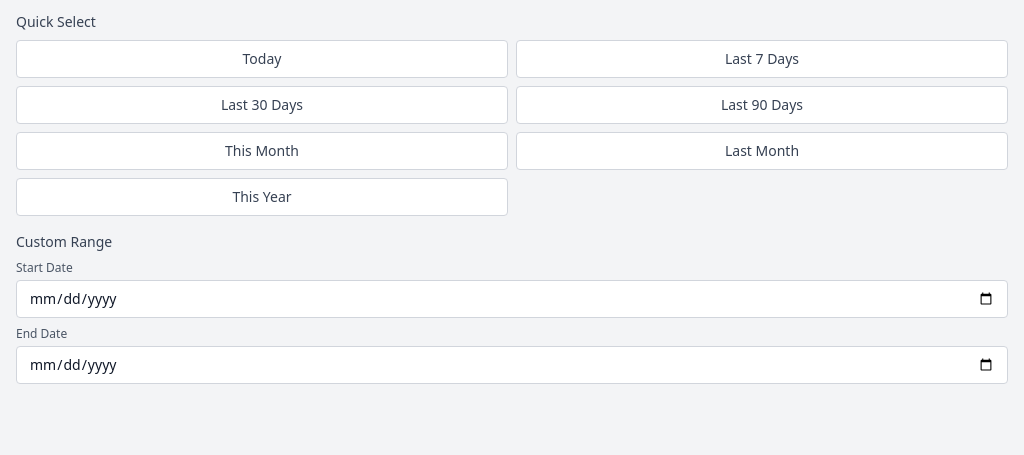
Test case: DateRangeFilter › Preset Button Interactions › should show clear button after preset is selected
The image size is (1024, 455).
Click the button "Today" at (262,59), box [16, 40, 508, 78]
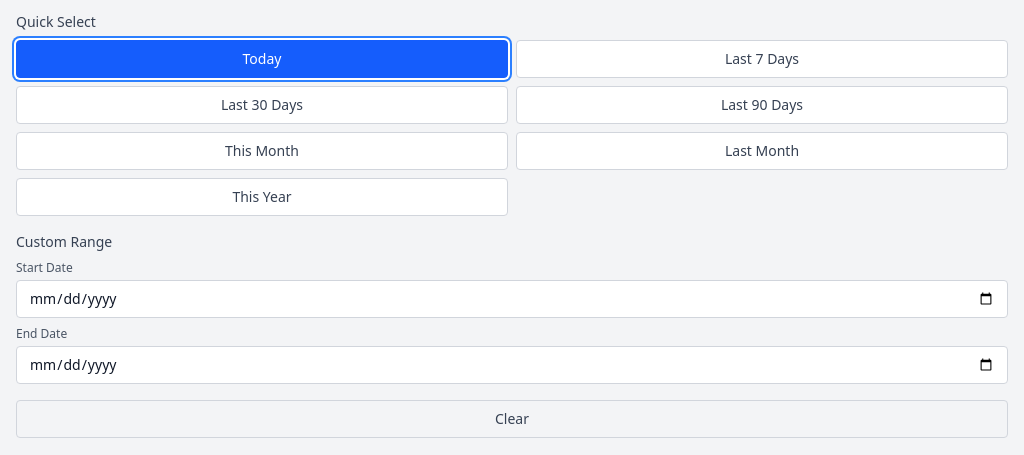
Check: the button "Clear" is shown, box [16, 400, 1008, 438]
